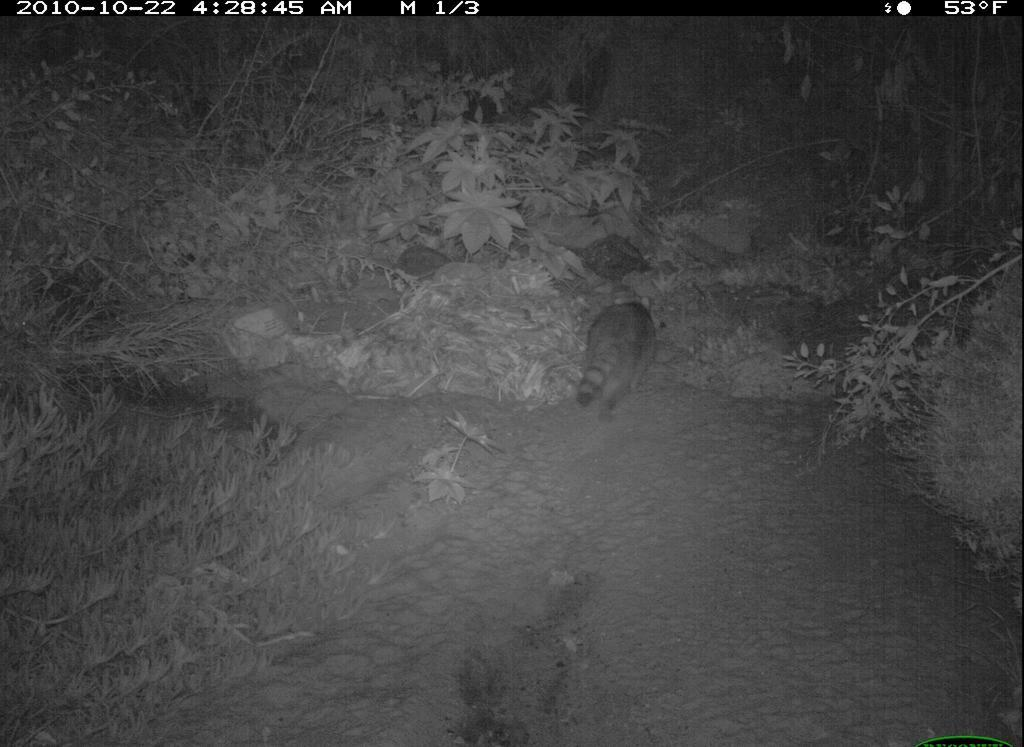raccoon: (578, 292, 666, 425)
